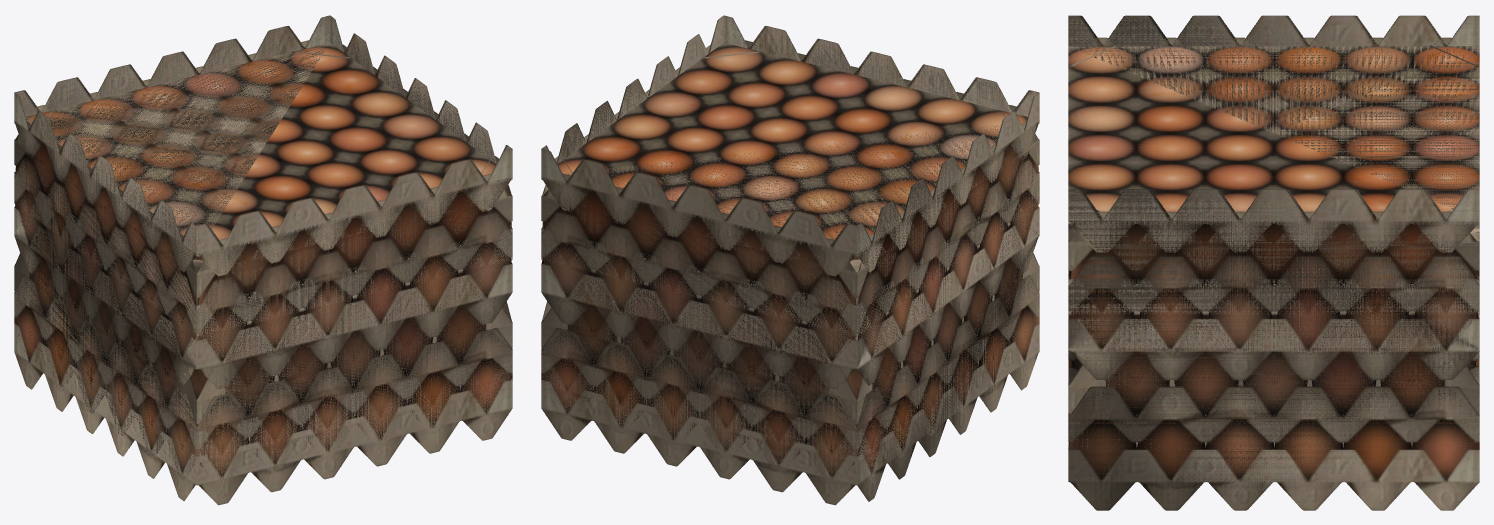
Rendered from eierverpackungen.fbx.
3 renders of one model, left to right at view 1: azimuth 30°, elevation 25°; view 2: azimuth 150°, elevation 25°; view 3: azimuth 270°, elevation 25°, orthographic. The views are drawn at different scales.
Parts seen in each view (by area): view 1: eier_6er_01b, eier_5er_01a, eier_6er_01a, eierkarton_leer, eier_6er_03a, eier_6er_02a; view 2: eier_6er_01b, eier_5er_01a, eierkarton_leer, eier_6er_01a, eier_6er_03a, eier_6er_02a; view 3: eier_6er_01b, eier_5er_01a, eier_6er_01a, eierkarton_leer, eier_6er_03a, eier_6er_02a.
Part boxes in pixels (x1,y1,x2,y2): eier_6er_01b: [14, 15, 512, 505]; eier_5er_01a: [14, 40, 512, 484]; eier_6er_01a: [25, 43, 328, 234]; eierkarton_leer: [14, 16, 512, 276]; eier_6er_03a: [14, 26, 512, 503]; eier_6er_02a: [19, 17, 503, 497]; eier_6er_01b: [541, 15, 1039, 505]; eier_5er_01a: [541, 40, 1039, 483]; eierkarton_leer: [541, 16, 1039, 276]; eier_6er_01a: [567, 121, 1025, 239]; eier_6er_03a: [541, 19, 1033, 503]; eier_6er_02a: [546, 17, 1039, 497]; eier_6er_01b: [1068, 15, 1479, 510]; eier_5er_01a: [1068, 37, 1479, 487]; eier_6er_01a: [1070, 46, 1479, 208]; eierkarton_leer: [1068, 15, 1479, 252]; eier_6er_03a: [1079, 15, 1479, 510]; eier_6er_02a: [1068, 15, 1478, 507].
Size of the model in its own units: 40 by 34.69 by 40.
